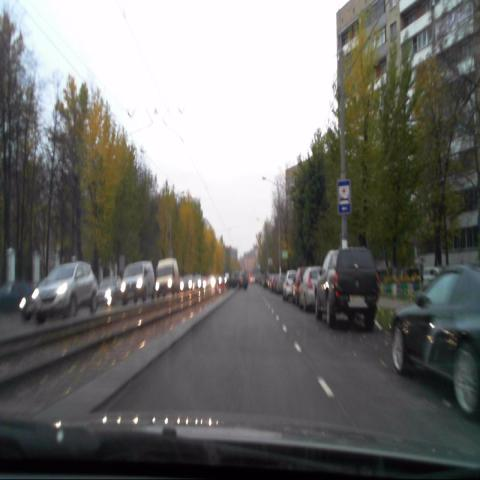7_2: (338, 181, 351, 214)
